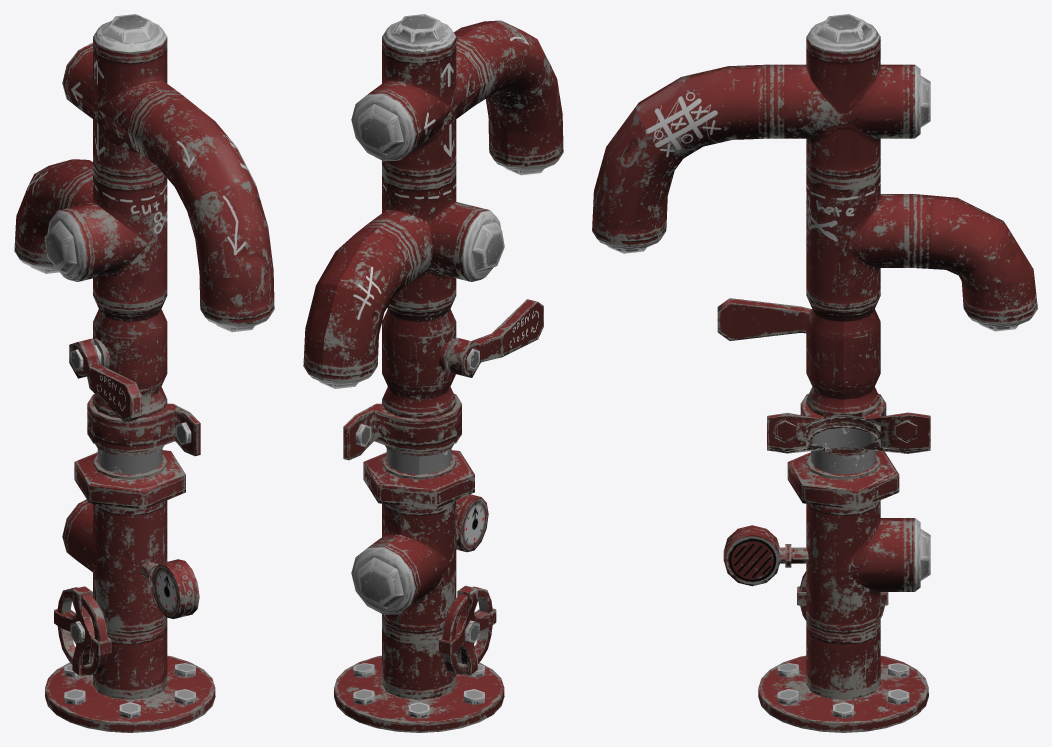
Rendered from stylized_pipe_set.glb.
3 renders of one model, left to right at view 1: azimuth 30°, elevation 25°; view 2: azimuth 150°, elevation 25°; view 3: azimuth 270°, elevation 25°, orthographic.
Visible parts, largest first — view 1: Pipe_10_low, Pipe_11_low, Pipe_06_low, Pipe_05_low, Pipe_08_low, Pipe_17_low, Pipe_16_low, Pipe_04_low, Pipe_09_low, Pipe_03_low, Pipe_12_low, Pipe_14_low (+4 smaller); view 2: Pipe_09_low, Pipe_10_low, Pipe_05_low, Pipe_11_low, Pipe_08_low, Pipe_06_low, Pipe_17_low, Pipe_16_low, Pipe_04_low, Pipe_12_low, Pipe_03_low, Pipe_14_low (+6 smaller); view 3: Pipe_10_low, Pipe_05_low, Pipe_11_low, Pipe_06_low, Pipe_09_low, Pipe_08_low, Pipe_17_low, Pipe_16_low, Pipe_04_low, Pipe_03_low, Pipe_15_low, Pipe_02_low (+4 smaller).
Boxes of the visible parts, x1,y1,x2,y2 form: Pipe_10_low: [134, 94, 274, 325]; Pipe_11_low: [59, 166, 167, 311]; Pipe_06_low: [62, 499, 167, 635]; Pipe_05_low: [62, 37, 181, 181]; Pipe_08_low: [45, 655, 215, 732]; Pipe_17_low: [93, 297, 167, 413]; Pipe_16_low: [87, 394, 200, 456]; Pipe_04_low: [93, 620, 167, 699]; Pipe_09_low: [14, 159, 92, 266]; Pipe_03_low: [74, 450, 185, 509]; Pipe_12_low: [54, 586, 111, 676]; Pipe_14_low: [69, 338, 141, 422]; Pipe_09_low: [303, 223, 415, 381]; Pipe_10_low: [454, 20, 563, 168]; Pipe_05_low: [368, 37, 486, 181]; Pipe_11_low: [368, 166, 489, 311]; Pipe_08_low: [334, 655, 504, 732]; Pipe_06_low: [368, 500, 456, 635]; Pipe_17_low: [382, 297, 456, 414]; Pipe_16_low: [343, 393, 461, 460]; Pipe_04_low: [382, 620, 456, 699]; Pipe_12_low: [438, 585, 496, 675]; Pipe_03_low: [363, 450, 474, 509]; Pipe_14_low: [448, 299, 543, 377]; Pipe_10_low: [592, 64, 771, 246]; Pipe_05_low: [772, 37, 914, 181]; Pipe_11_low: [806, 166, 914, 311]; Pipe_06_low: [806, 500, 914, 635]; Pipe_09_low: [915, 194, 1037, 324]; Pipe_08_low: [758, 655, 928, 732]; Pipe_17_low: [806, 297, 880, 414]; Pipe_16_low: [767, 393, 930, 453]; Pipe_04_low: [806, 620, 880, 699]; Pipe_03_low: [787, 448, 899, 509]; Pipe_15_low: [723, 525, 808, 586]; Pipe_02_low: [806, 422, 880, 479].
Size of the model in its own units: 24.12 by 104 by 62.4.
1 material, 1 textured.
